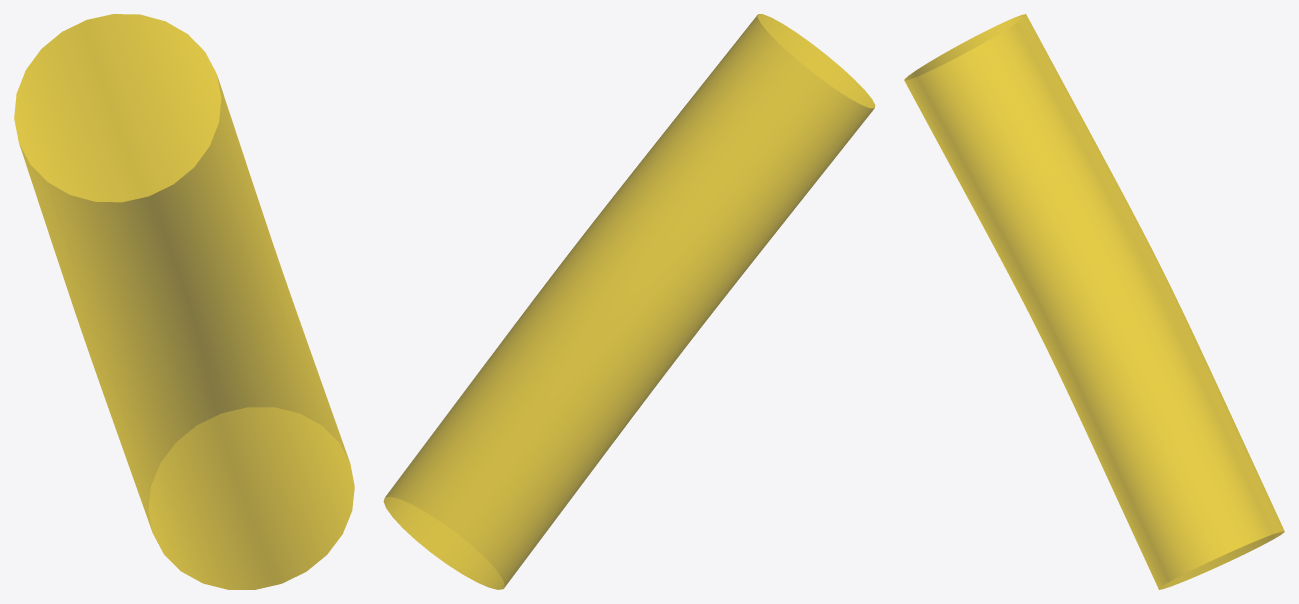
File: Event_84804159_track_4.fbx
The picture shows the model from 3 angles, left to right: view 1: azimuth 30°, elevation 25°; view 2: azimuth 150°, elevation 25°; view 3: azimuth 270°, elevation 25°; orthographic projection. The views are drawn at different scales.
Visible parts, largest first — view 1: Model; view 2: Model; view 3: Model.
Boxes of the visible parts, x1,y1,x2,y2 form: Model: (14, 14, 354, 589); Model: (383, 14, 875, 589); Model: (904, 14, 1284, 589).
Size of the model in its own units: 0.1077 by 0.1537 by 0.109.
